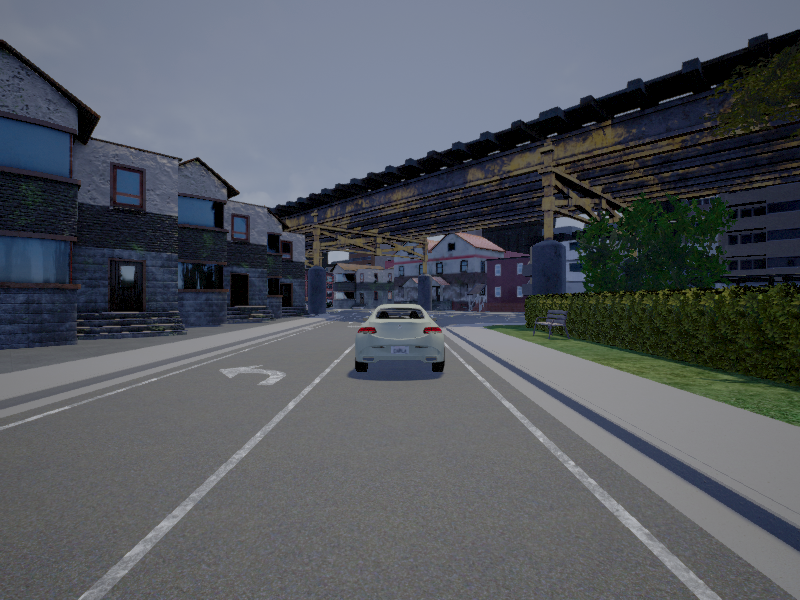Benign: (353, 304, 446, 375)
